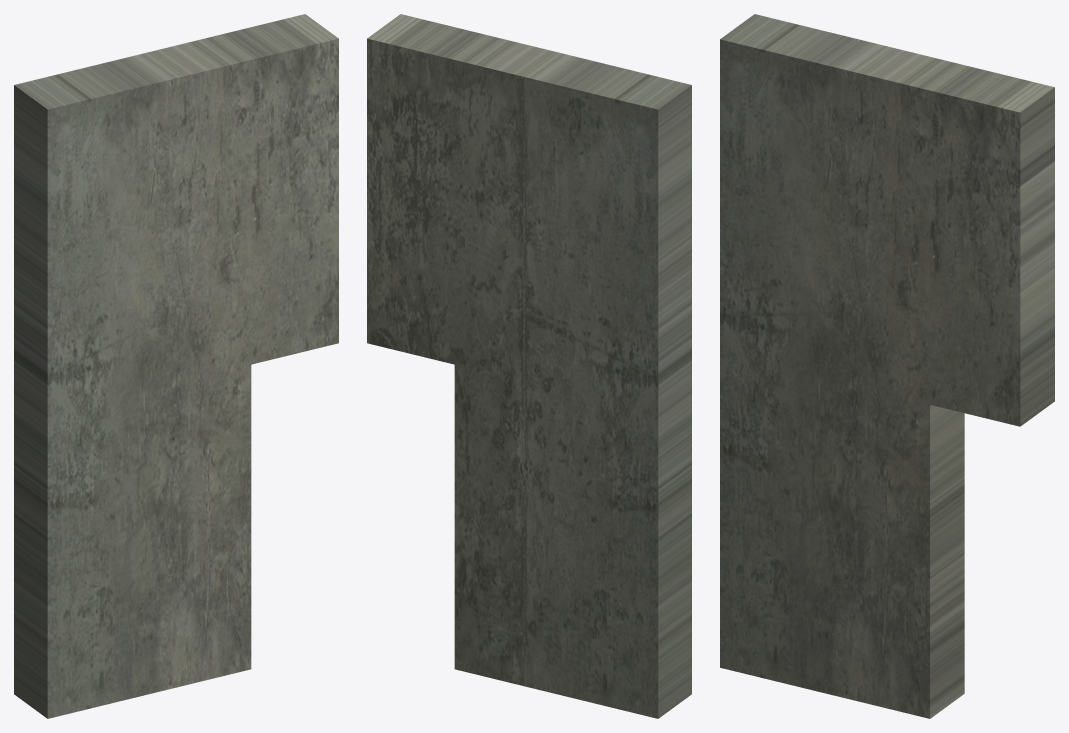
File: modular_door_left_notile.fbx
The picture shows the model from 3 angles, left to right: view 1: azimuth 30°, elevation 25°; view 2: azimuth 150°, elevation 25°; view 3: azimuth 330°, elevation 25°; orthographic projection. The views are drawn at different scales.
Visible parts, largest first — view 1: modular_door_left_notile_Mesh; view 2: modular_door_left_notile_Mesh; view 3: modular_door_left_notile_Mesh.
Part boxes in pixels (x1,y1,x2,y2): modular_door_left_notile_Mesh: (14, 14, 338, 718); modular_door_left_notile_Mesh: (367, 14, 691, 718); modular_door_left_notile_Mesh: (720, 14, 1054, 718).
Size of the model in its own units: 250 by 500 by 50.
